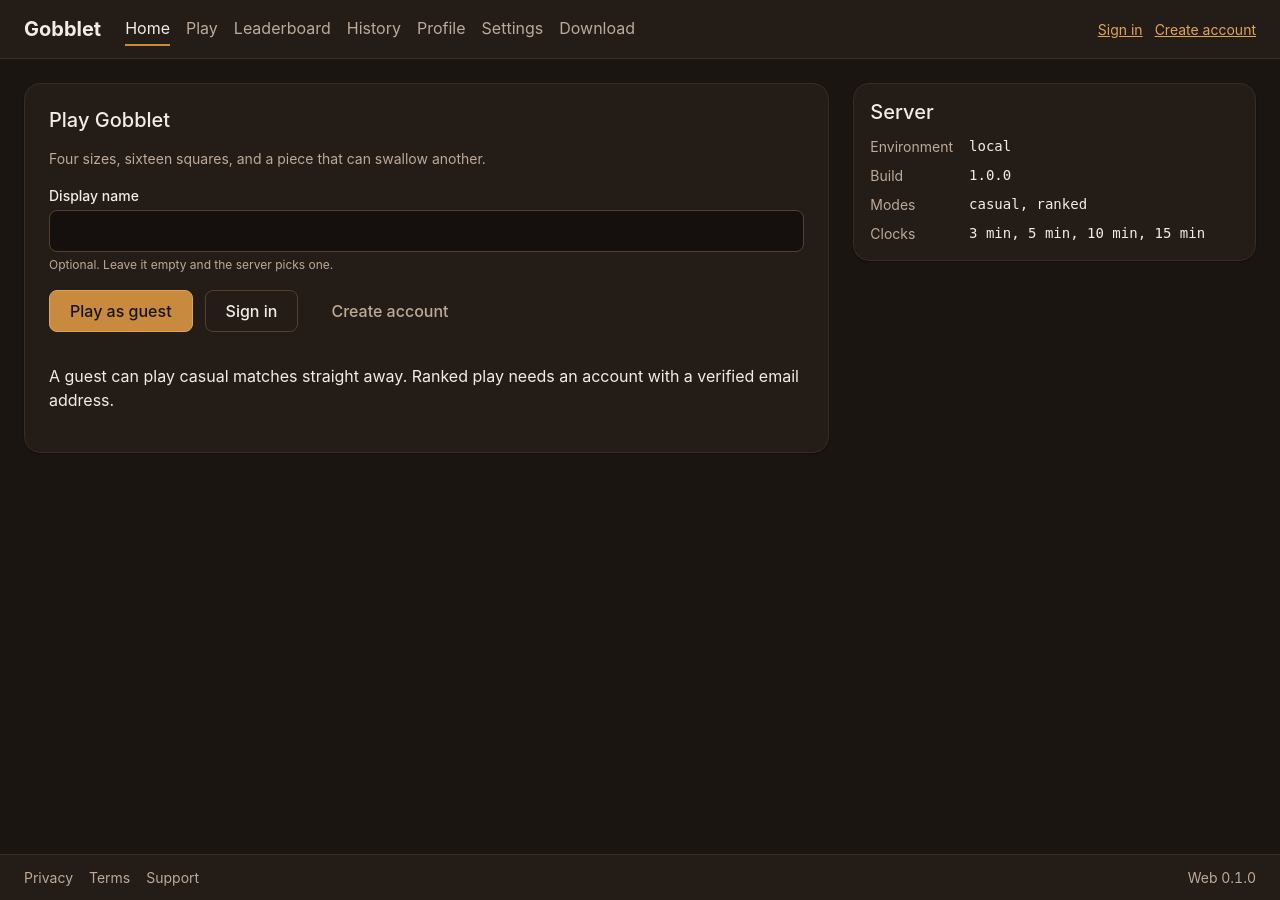
it: home screen › reports a refused guest session
This screenshot has width=1280, height=900.
What coordinates should you click on to do the following:
click the button with test id "play-as-guest"
I would click on:
 (121, 311)
Its box is [49,290,193,332].
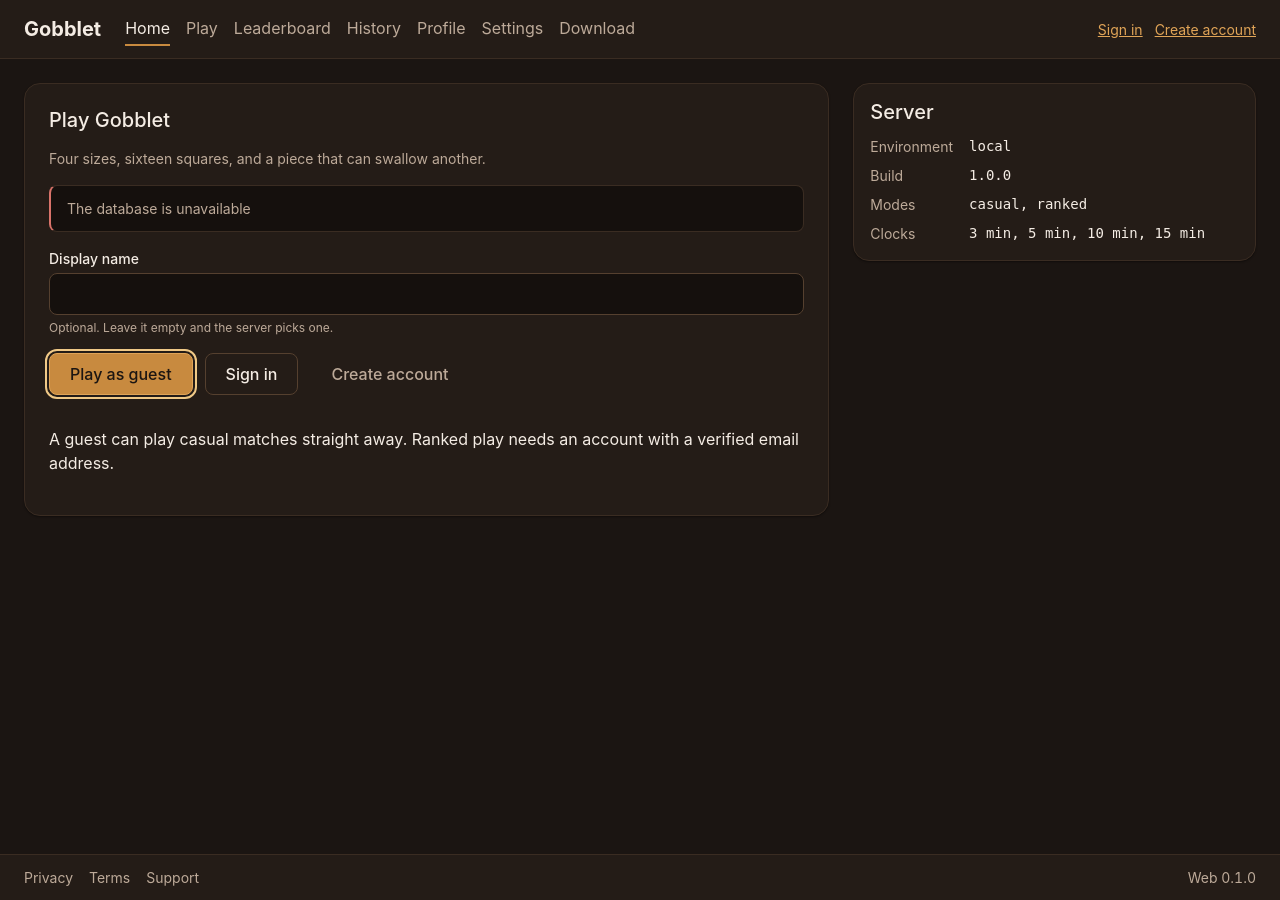
Now the message reads "The database is unavailable", box [67,200,251,217]
